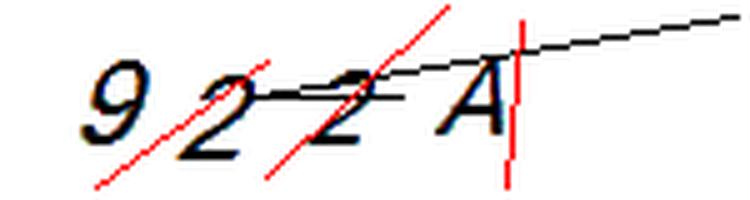2: (172, 66, 267, 172), (302, 65, 383, 152)
9: (74, 54, 156, 151)
A: (429, 44, 520, 143)
